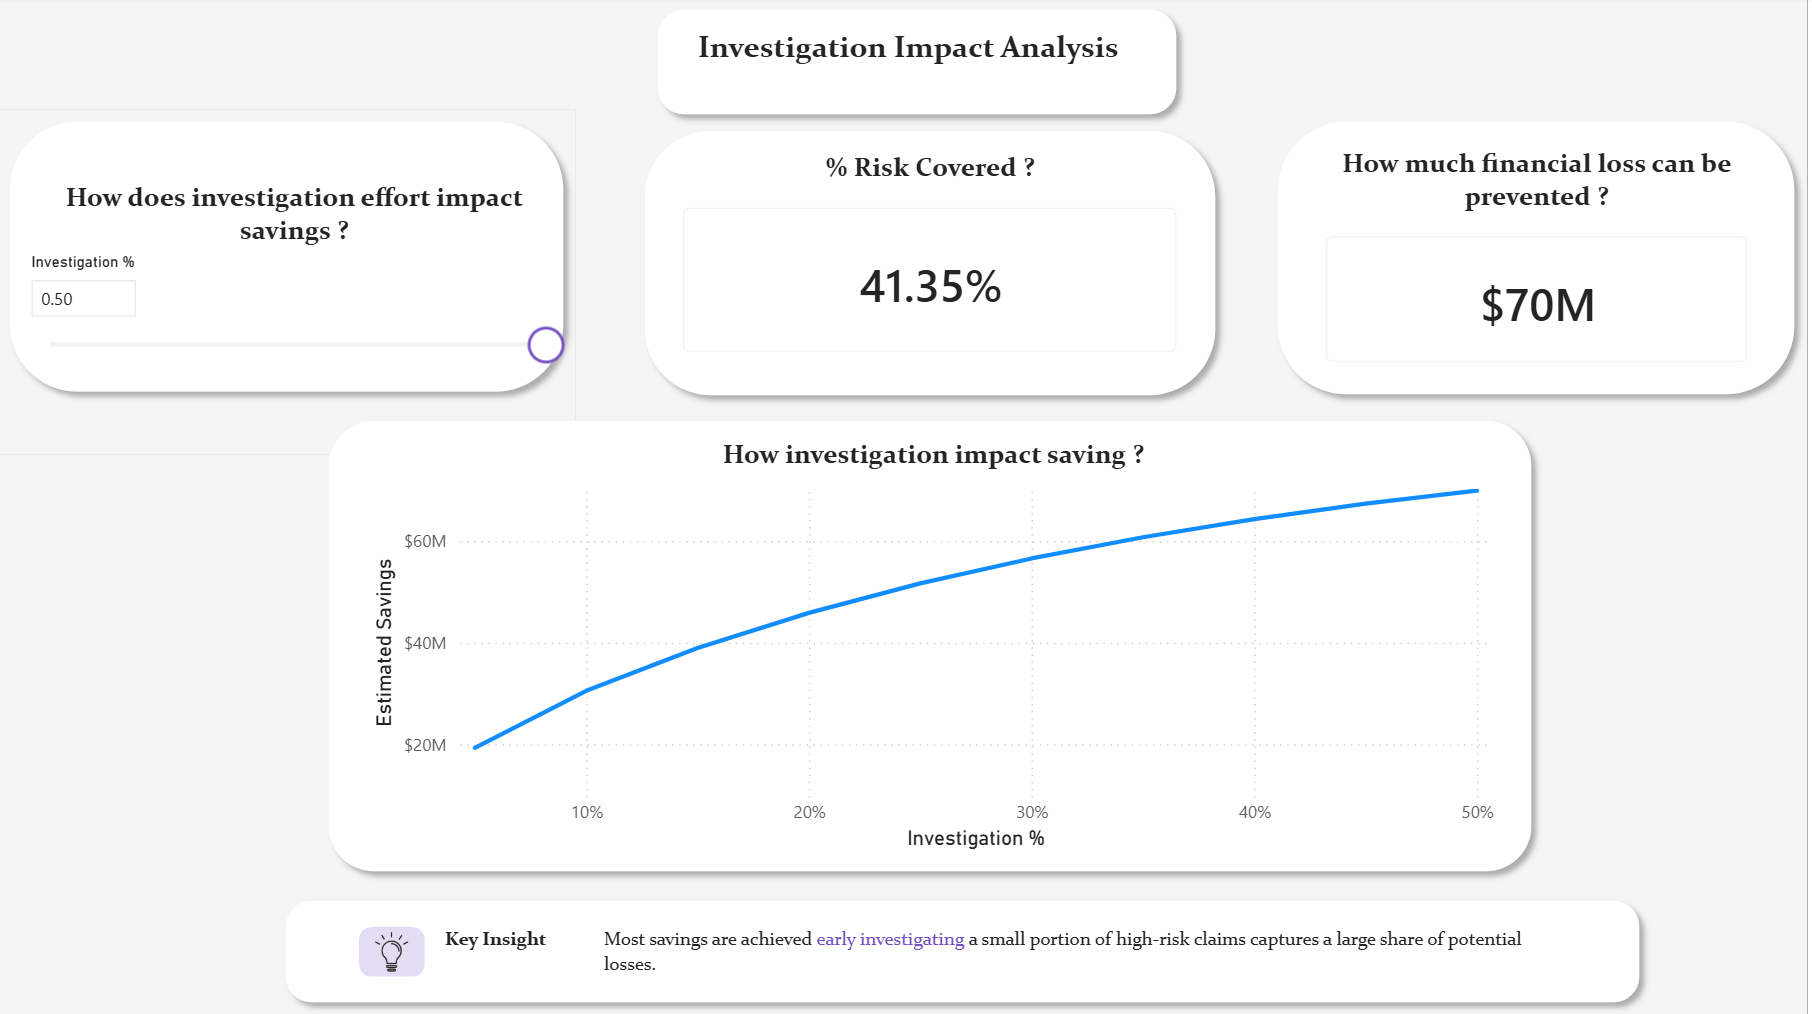

This screenshot's page, from the dashboard's own definition file:
{"tool":"powerbi","page":{"name":"Impact of Investigation","canvas":[1280,720],"ordinal":3},"visuals":[{"type":"group","id":"g1","title":"Title","box":[458.1,0,389.8,91.9],"z":0},{"type":"shape","box":[458.1,0,384.7,91.9],"z":0,"group":"g1"},{"type":"shape","box":[0,79.2,409.5,208.9],"z":0,"group":"g2"},{"type":"shape","box":[896.7,79.2,383.3,210.7],"z":0,"group":"g5"},{"type":"shape","box":[449.1,85.6,421.5,205.1],"z":0,"group":"g3"},{"type":"shape","box":[225.6,290.7,868.4,336.6],"z":0,"group":"g6"},{"type":"shape","box":[195.2,630.1,975.2,89.8],"z":0,"group":"g7"},{"type":"shape","title":"Bulb Shape","box":[256.2,657.8,46.5,35.4],"z":0,"group":"g4"},{"type":"textbox","box":[490.8,17.7,357.1,61.5],"z":1000,"group":"g1"},{"type":"group","id":"g2","title":"Slider","box":[0,79.2,409.5,244.7],"z":1000},{"type":"cardVisual","title":"How much financial loss can be prevented ?","fields":{"Data":["Sheet1.Estimated Savings"]},"box":[922.6,106.1,332.1,169.7],"z":1000,"group":"g5"},{"type":"cardVisual","title":"% Risk Covered ?","fields":{"Data":["Sheet1.% Risk Covered"]},"box":[468.4,108.8,383.8,160],"z":1000,"group":"g3"},{"type":"slicer","title":"How does investigation effort impact savings ?","fields":{"Values":["Investigation %.Investigation %"]},"box":[11.5,129.9,397.9,194],"z":1000,"group":"g2"},{"type":"lineChart","title":"How investigation impact saving ?","fields":{"Category":["Investigation %.Investigation %"],"Y":["Sheet1.Estimated Savings"]},"box":[261.2,312.2,802.7,295.6],"z":1000,"group":"g6"},{"type":"textbox","box":[424.3,651.3,688.1,46.7],"z":1000,"group":"g7"},{"type":"image","title":"LighBulb","box":[263.4,661,31.8,28.5],"z":1000,"group":"g4"},{"type":"group","id":"g3","title":"Risk Covered","box":[449.1,85.6,421.5,205.1],"z":2000},{"type":"group","id":"g4","title":"Bulb Icon","box":[256.2,657.8,46.2,35.4],"z":2000,"group":"g7"},{"type":"textbox","box":[311.9,651.3,90.5,30.4],"z":2500,"group":"g7"},{"type":"group","id":"g5","title":"Financial loss can be prevented","box":[896.7,79.2,383.3,210.7],"z":3000},{"type":"group","id":"g6","title":"Line Graph","box":[225.6,290.7,868.4,336.6],"z":4000},{"type":"group","id":"g7","title":"Insight","box":[195.2,630.1,975.2,89.8],"z":4001}]}

Visuals, with their boxes in screenshot pixels (x1, y1, x2, y2), scaled from the page's 1280x720 canvas onto the 1812x1014 screenshot:
"Title" group: bbox=[648, 0, 1200, 129]
shape: bbox=[648, 0, 1193, 129]
shape: bbox=[0, 112, 580, 406]
shape: bbox=[1269, 112, 1811, 408]
shape: bbox=[636, 121, 1232, 409]
shape: bbox=[319, 409, 1549, 883]
shape: bbox=[276, 887, 1657, 1013]
"Bulb Shape" shape: bbox=[363, 926, 429, 976]
textbox: bbox=[695, 25, 1200, 112]
"Slider" group: bbox=[0, 112, 580, 456]
"How much financial loss can be prevented ?" cardVisual: bbox=[1306, 149, 1776, 388]
"% Risk Covered ?" cardVisual: bbox=[663, 153, 1206, 379]
"How does investigation effort impact savings ?" slicer: bbox=[16, 183, 580, 456]
"How investigation impact saving ?" lineChart: bbox=[370, 440, 1506, 856]
textbox: bbox=[601, 917, 1575, 983]
"LighBulb" image: bbox=[373, 931, 418, 971]
"Risk Covered" group: bbox=[636, 121, 1232, 409]
"Bulb Icon" group: bbox=[363, 926, 428, 976]
textbox: bbox=[442, 917, 570, 960]
"Financial loss can be prevented" group: bbox=[1269, 112, 1811, 408]
"Line Graph" group: bbox=[319, 409, 1549, 883]
"Insight" group: bbox=[276, 887, 1657, 1013]
